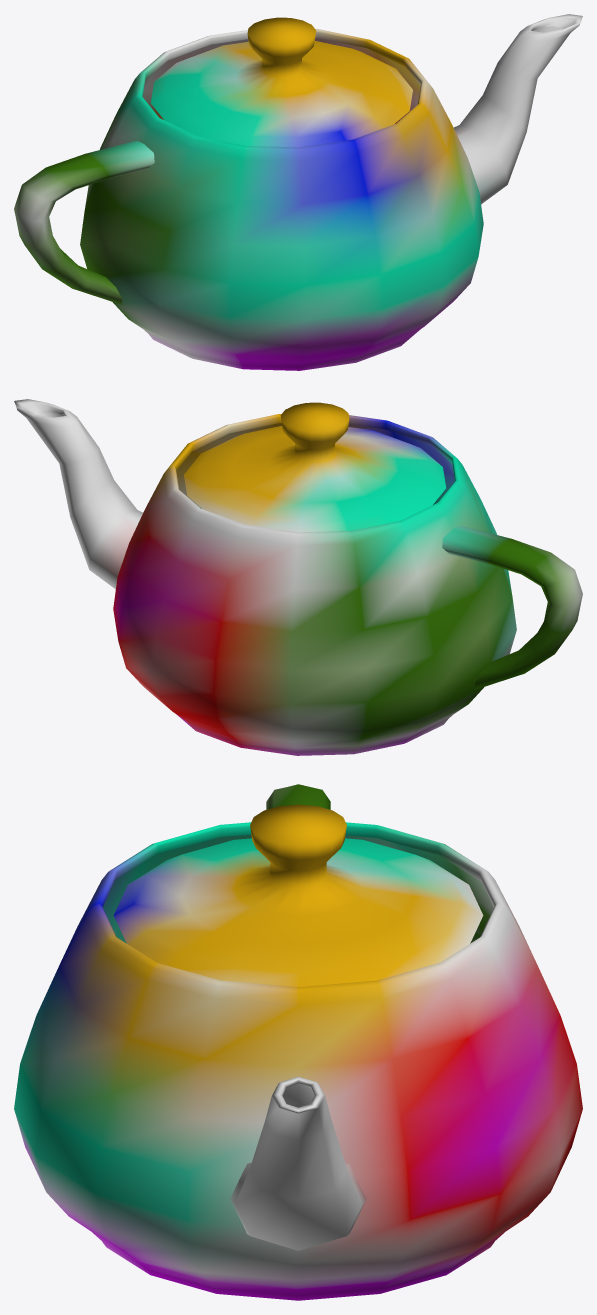
The model's file is teapot.FBX.
3 renders of one model, top to bottom at view 1: azimuth 30°, elevation 25°; view 2: azimuth 150°, elevation 25°; view 3: azimuth 270°, elevation 25°, orthographic. The views are drawn at different scales.
Visible parts, largest first — view 1: Teapot001; view 2: Teapot001; view 3: Teapot001.
Boxes of the visible parts, x1,y1,x2,y2 form: Teapot001: (14, 14, 582, 370); Teapot001: (14, 399, 582, 755); Teapot001: (14, 784, 582, 1300).
Size of the model in its own units: 109 by 53.48 by 67.91.
